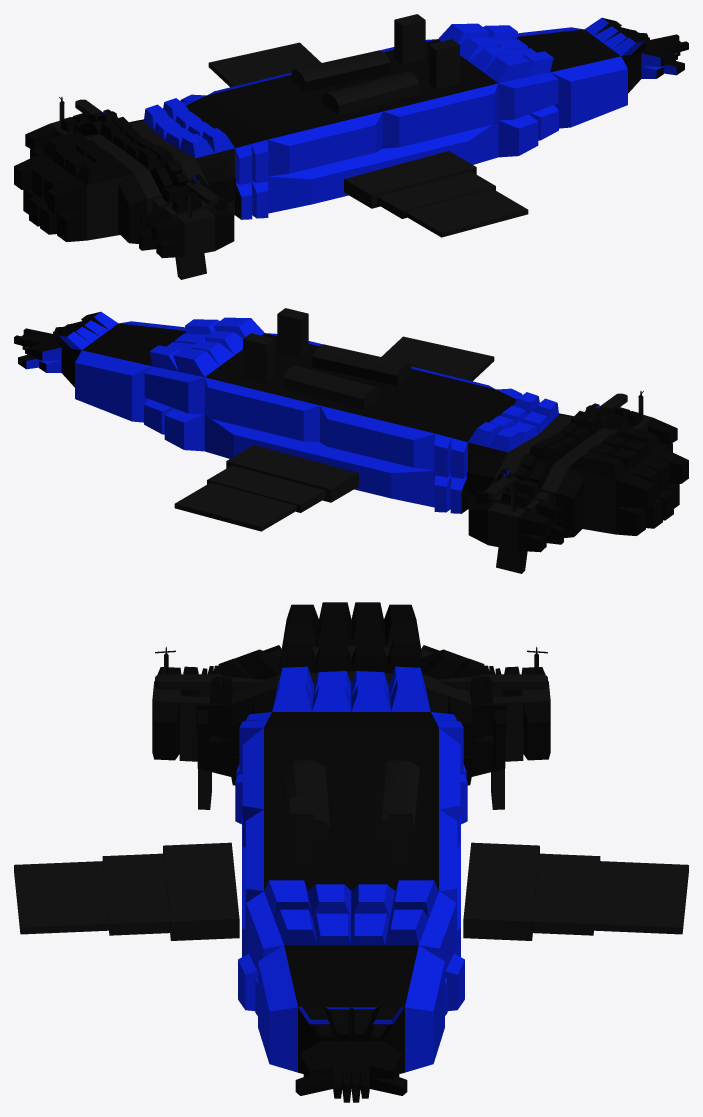
File: blue2.fbx
The picture shows the model from 3 angles, top to bottom: view 1: azimuth 30°, elevation 25°; view 2: azimuth 150°, elevation 25°; view 3: azimuth 270°, elevation 25°; orthographic projection. The views are drawn at different scales.
Visible parts, largest first — view 1: discombobulated_mesh, Cube; view 2: discombobulated_mesh, Cube; view 3: Cube, discombobulated_mesh.
Part boxes in pixels (bbox=[...]): discombobulated_mesh: bbox=[14, 17, 688, 258]; Cube: bbox=[49, 14, 661, 279]; discombobulated_mesh: bbox=[14, 311, 688, 552]; Cube: bbox=[41, 308, 653, 573]; Cube: bbox=[14, 620, 688, 1088]; discombobulated_mesh: bbox=[152, 602, 550, 1102].
Bounding box in the file's own units: 151 × 30.4 × 93.99.
